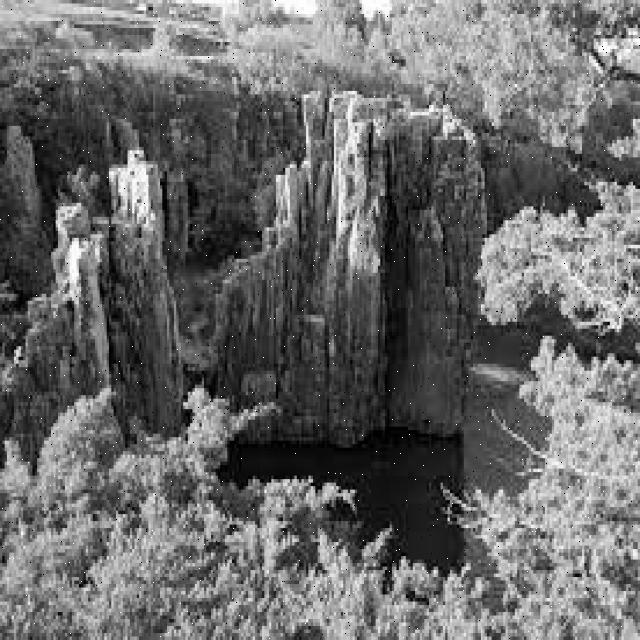Metamorphic: (208, 91, 484, 430), (2, 150, 190, 455)
